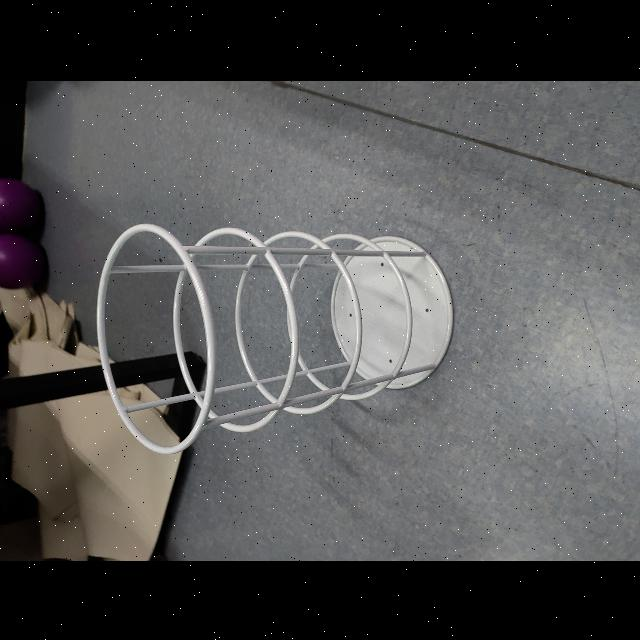S: (93, 214, 457, 458)
